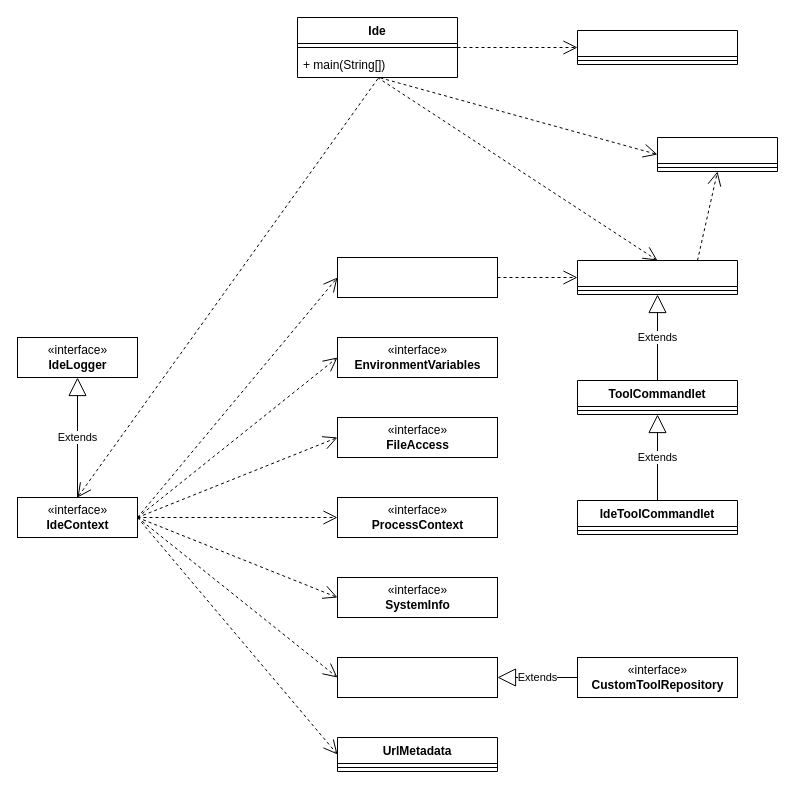
Some shapes in this 795 by 789 pixel diagram are drawn without their labels. The centre of each missing label's shape, as x and y in pixels:
"CliArgument" belongs at (x=657, y=47).
"Commandlet" belongs at (x=657, y=277).
"Property" belongs at (x=717, y=154).
"«interface» CommandletManager" belongs at (x=417, y=277).
"«interface» ToolRepository" belongs at (x=417, y=677).
